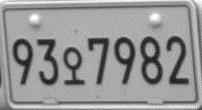2: (165, 35, 191, 84)
3: (36, 38, 58, 85)
7: (87, 36, 109, 85)
8: (139, 35, 163, 84)
9: (113, 35, 136, 85), (12, 37, 33, 85)
오: (62, 46, 85, 85)
